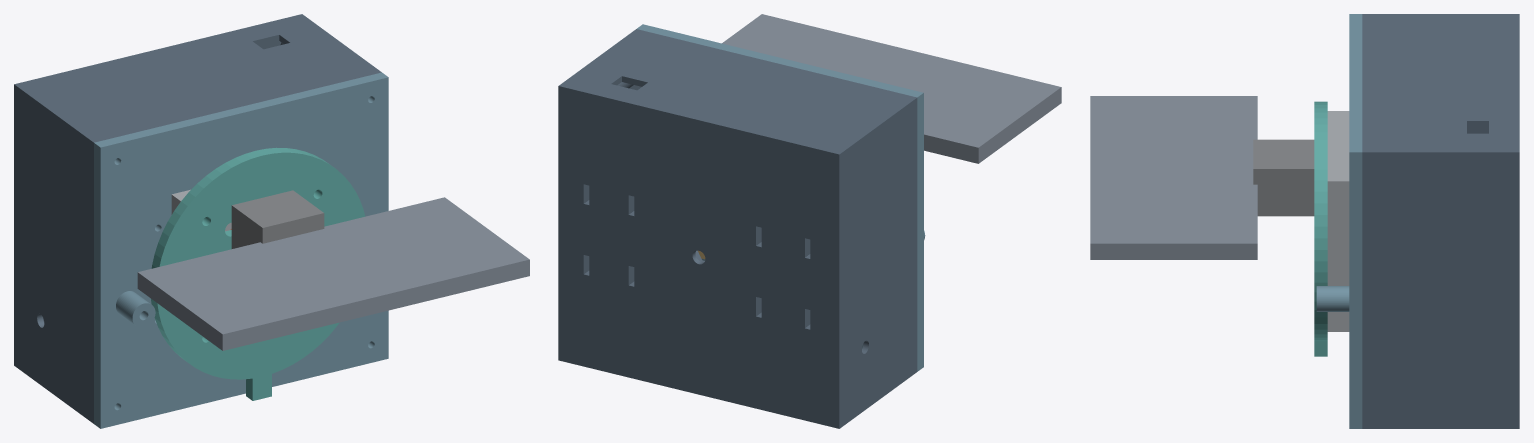
Rendered from assembly.glb.
The picture shows the model from 3 angles, left to right: view 1: azimuth 30°, elevation 25°; view 2: azimuth 150°, elevation 25°; view 3: azimuth 270°, elevation 25°; orthographic projection. The views are drawn at different scales.
Visible parts, largest first — view 1: base, lid, iphone15promax_reference, rotor, clamp_reference; view 2: base, iphone15promax_reference, lid; view 3: base, iphone15promax_reference, lid, clamp_reference, bearing_reference_nominal, rotor.
Part boxes in pixels (x1,y1,x2,y2): base: (14, 14, 381, 423); lid: (94, 72, 388, 428); iphone15promax_reference: (137, 197, 529, 350); rotor: (150, 147, 365, 400); clamp_reference: (231, 190, 324, 248); base: (558, 29, 917, 428); iphone15promax_reference: (722, 14, 1061, 163); lid: (637, 24, 925, 371); base: (1362, 14, 1519, 428); iphone15promax_reference: (1090, 96, 1257, 259); lid: (1316, 14, 1362, 428); clamp_reference: (1253, 139, 1314, 216); bearing_reference_nominal: (1327, 111, 1349, 331); rotor: (1314, 101, 1327, 356).
Size of the model in its own units: 0.1599 by 0.14 by 0.1967.
